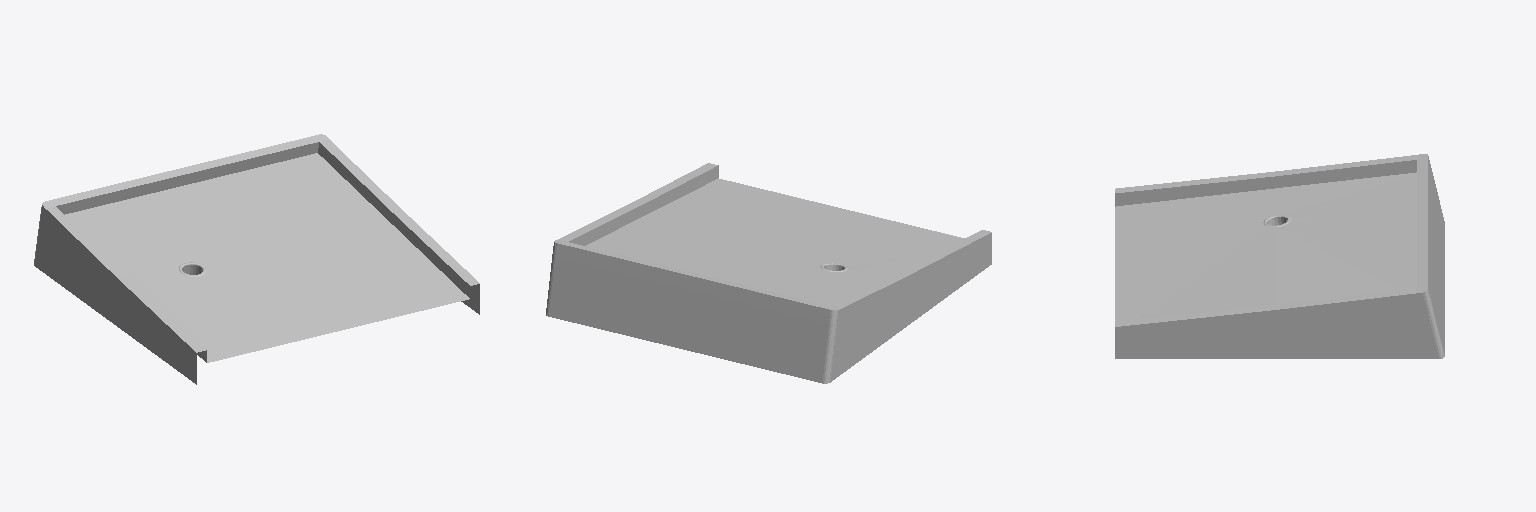
File: sSlopeHole_left_3x3.obj
3 renders of one model, left to right at view 1: azimuth 30°, elevation 25°; view 2: azimuth 150°, elevation 25°; view 3: azimuth 270°, elevation 25°, orthographic.
Visible parts, largest first — view 1: modelPanel2ViewSelectedSet sSlopeHole_left_3x3; view 2: modelPanel2ViewSelectedSet sSlopeHole_left_3x3; view 3: modelPanel2ViewSelectedSet sSlopeHole_left_3x3.
Part boxes in pixels (bbox=[...]): modelPanel2ViewSelectedSet sSlopeHole_left_3x3: bbox=[34, 134, 479, 384]; modelPanel2ViewSelectedSet sSlopeHole_left_3x3: bbox=[546, 163, 991, 383]; modelPanel2ViewSelectedSet sSlopeHole_left_3x3: bbox=[1115, 154, 1444, 358].
Bounding box in the file's own units: 3 × 0.6807 × 3.02.